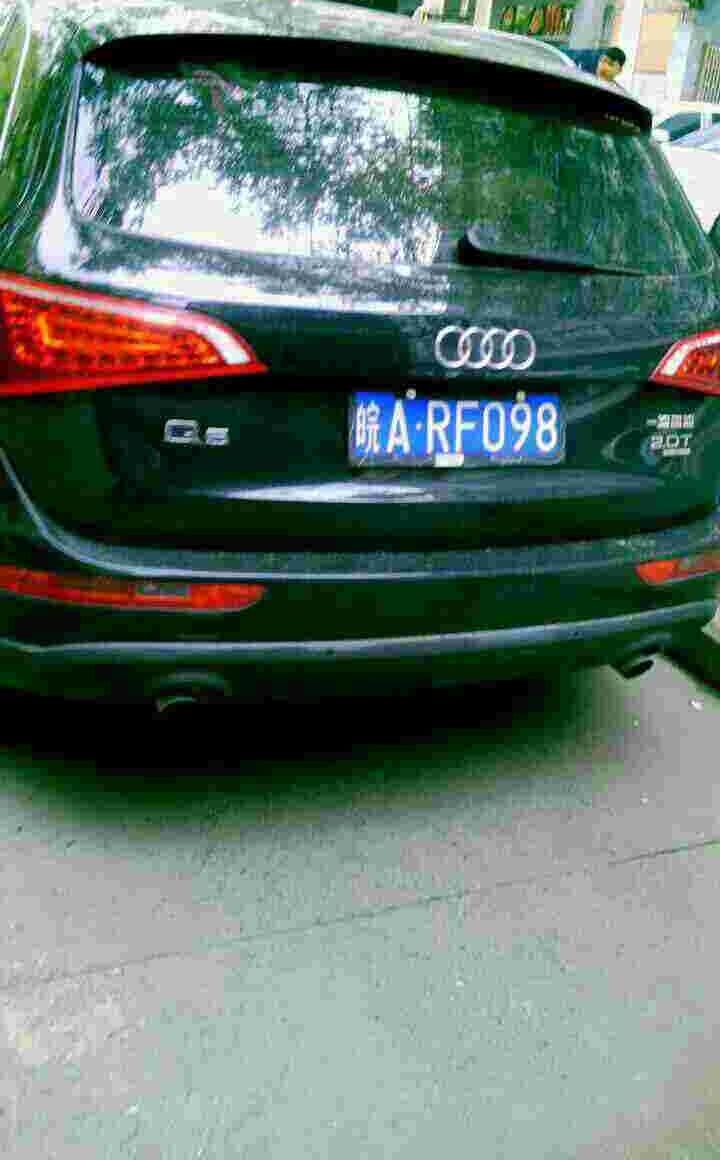license_plate: (363, 401, 568, 462)
